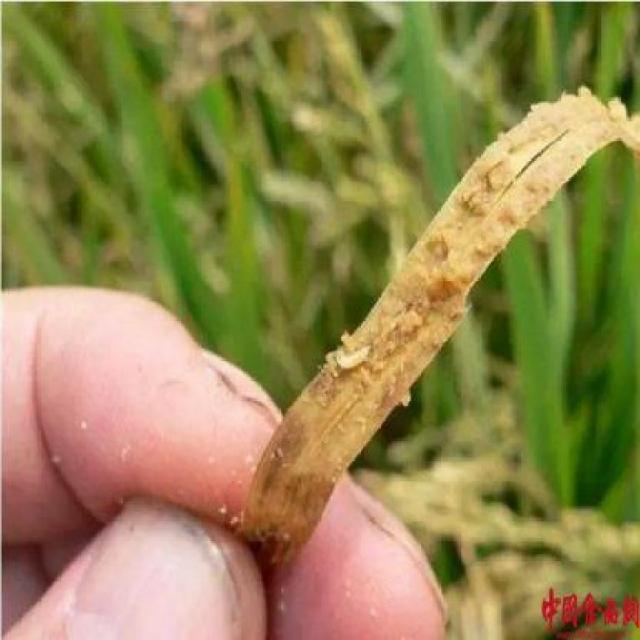whorl-maggot: (335, 340, 377, 377)
